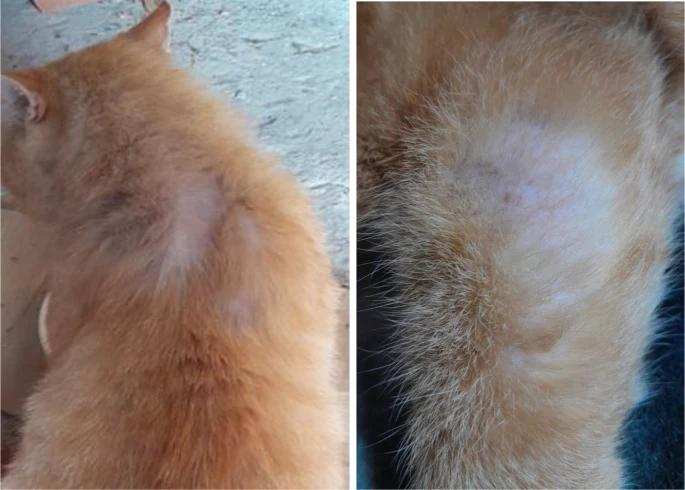hairloss: (487, 131, 603, 302), (180, 183, 224, 265), (235, 221, 256, 328)
